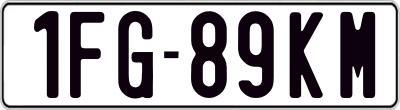1: (32, 11, 59, 104)
8: (189, 10, 225, 101)
9: (238, 9, 275, 98)
F: (70, 10, 105, 100)
G: (118, 9, 155, 101)
K: (290, 11, 329, 99)
M: (340, 9, 377, 100)
